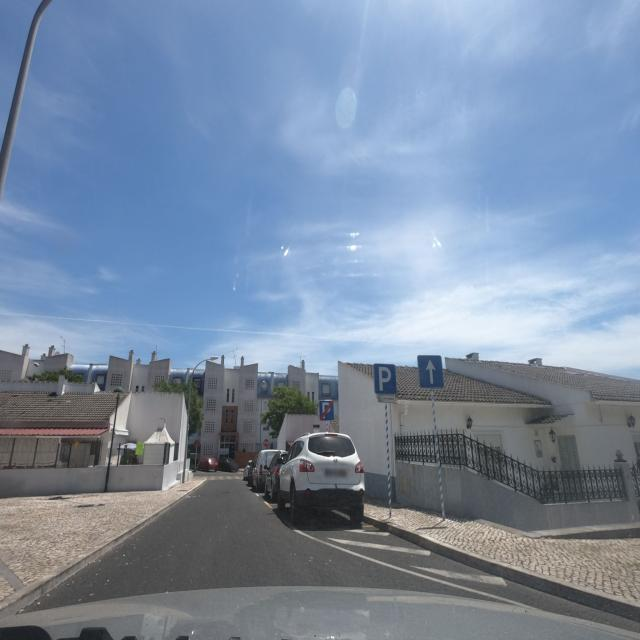forb_stopping: (319, 400, 336, 421)
